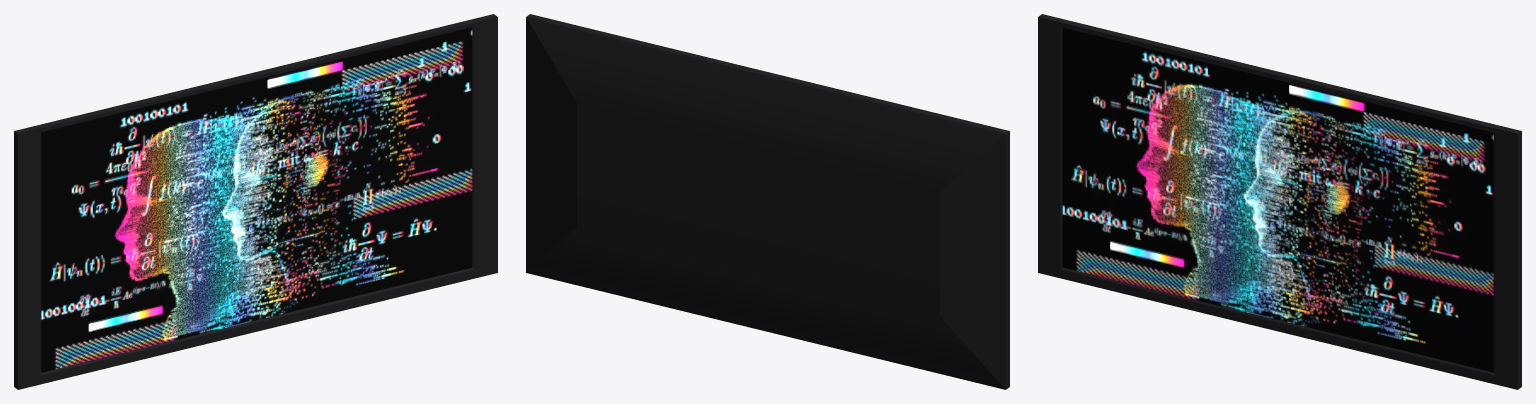
The model's file is DisplayScreenA1.fbx.
3 views of the same model, side by side, from view 1: azimuth 30°, elevation 25°; view 2: azimuth 150°, elevation 25°; view 3: azimuth 330°, elevation 25° (orthographic).
Visible parts, largest first — view 1: DisplayScreenA1; view 2: DisplayScreenA1; view 3: DisplayScreenA1.
Part boxes in pixels (x1,y1,x2,y2): DisplayScreenA1: [14, 14, 497, 389]; DisplayScreenA1: [526, 14, 1009, 389]; DisplayScreenA1: [1038, 14, 1521, 389].
Bounding box in the file's own units: 423 × 215 × 18.14.
